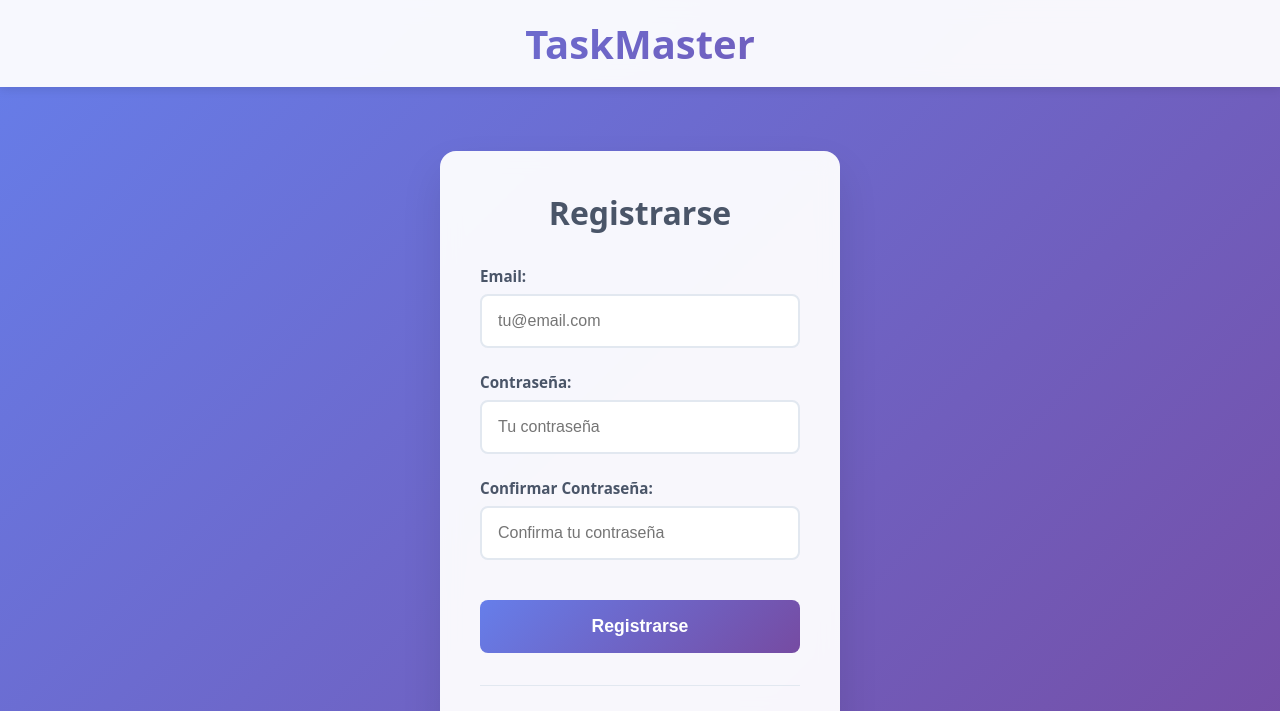
Test case: Autenticación de Usuarios › Registro de Usuarios › debería permitir registrar un nuevo usuario exitosamente
The width and height of the screenshot is (1280, 711).
Expected: the heading "Registrarse" is shown, [549,191,731,234]
# Llenar el formulario de registro
Type "newuser@taskmaster.com" into the field with test id "email-input" at (640, 321), box [480,294,800,348]
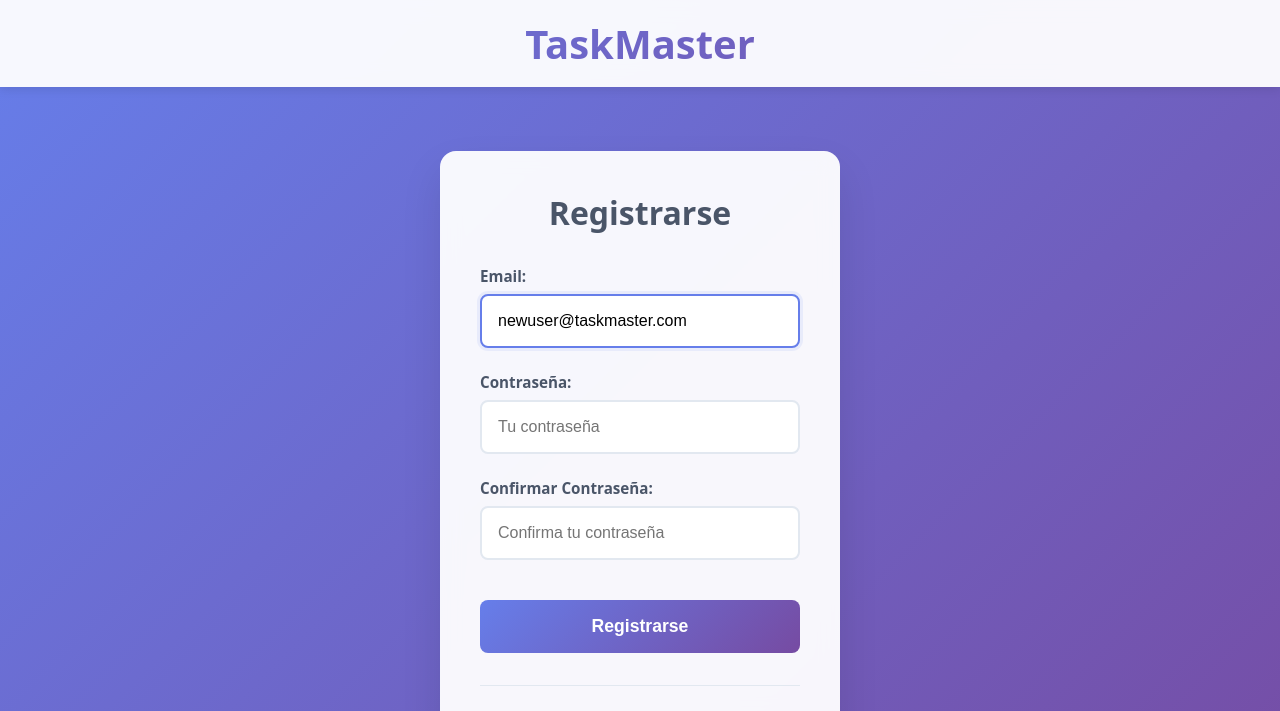
Type "newpassword123" into the password field with test id "password-input" at (640, 427), box [480,400,800,454]
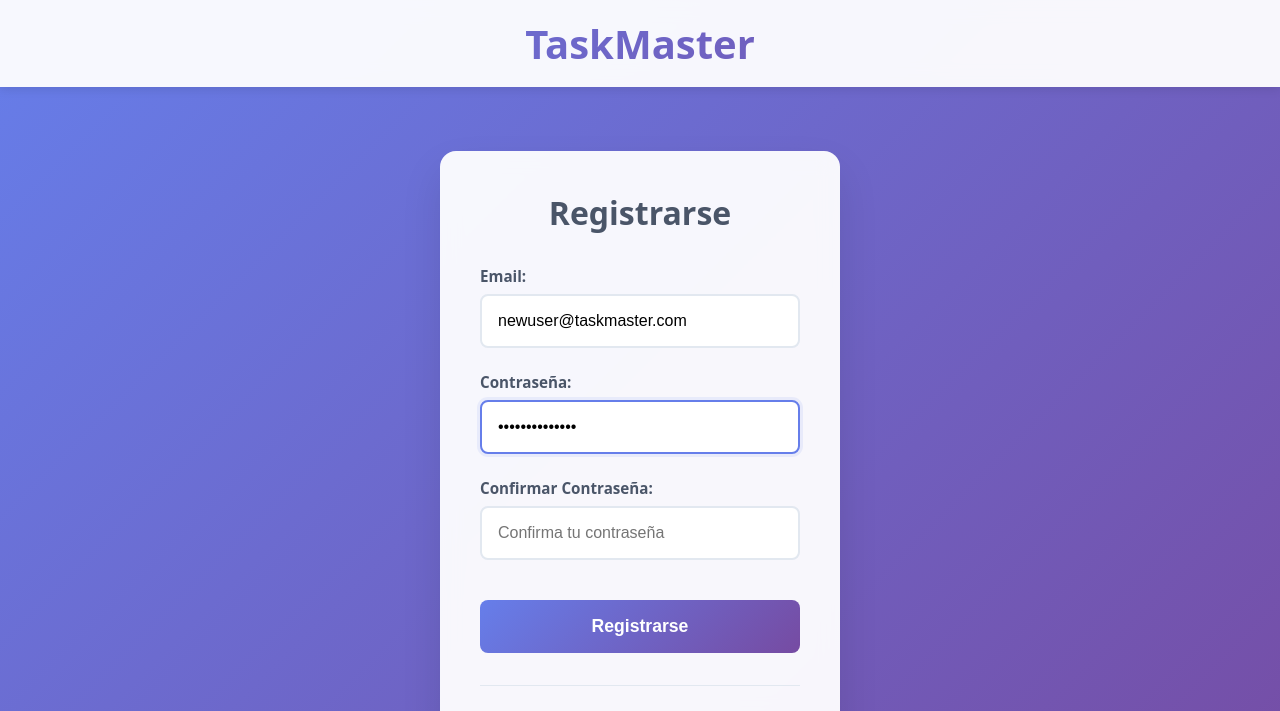
Type "newpassword123" into the password field with test id "confirm-password-input" at (640, 533), box [480,506,800,560]
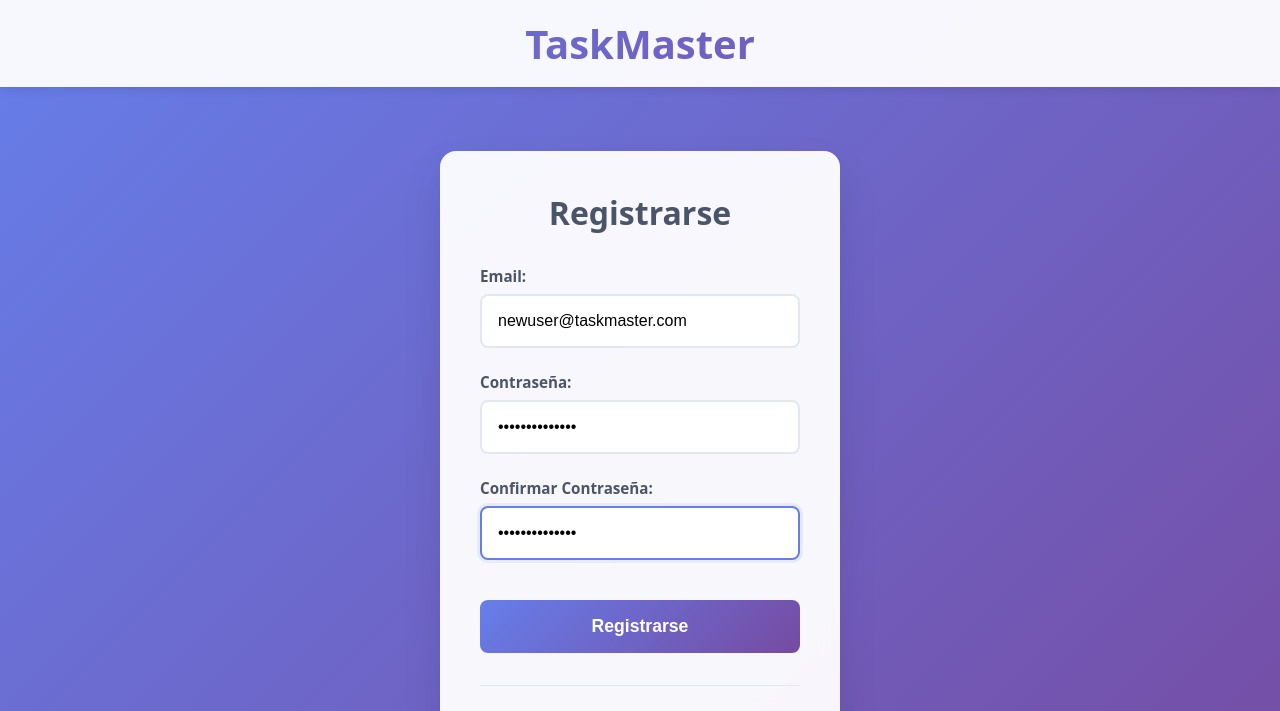
# Enviar el formulario
Click the button with test id "register-button" at (640, 627), box [480,600,800,653]
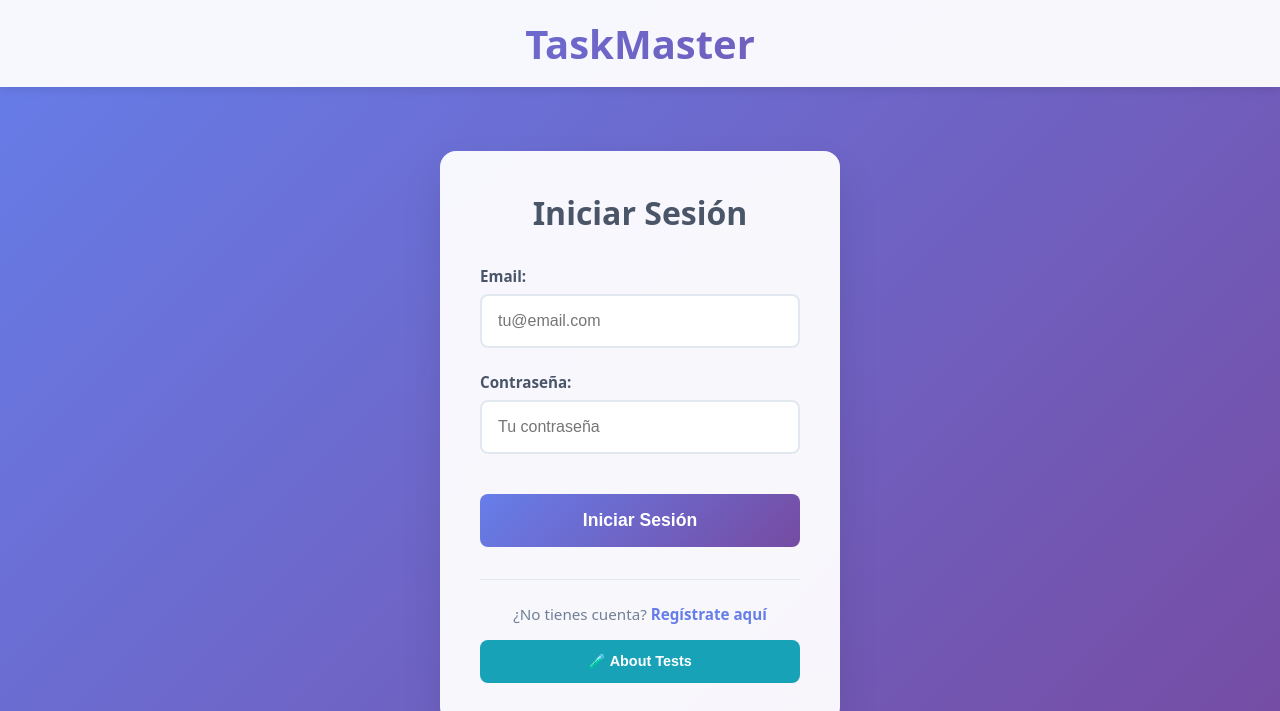
Result: the heading "Iniciar Sesión" is shown at [533,191,747,234]
